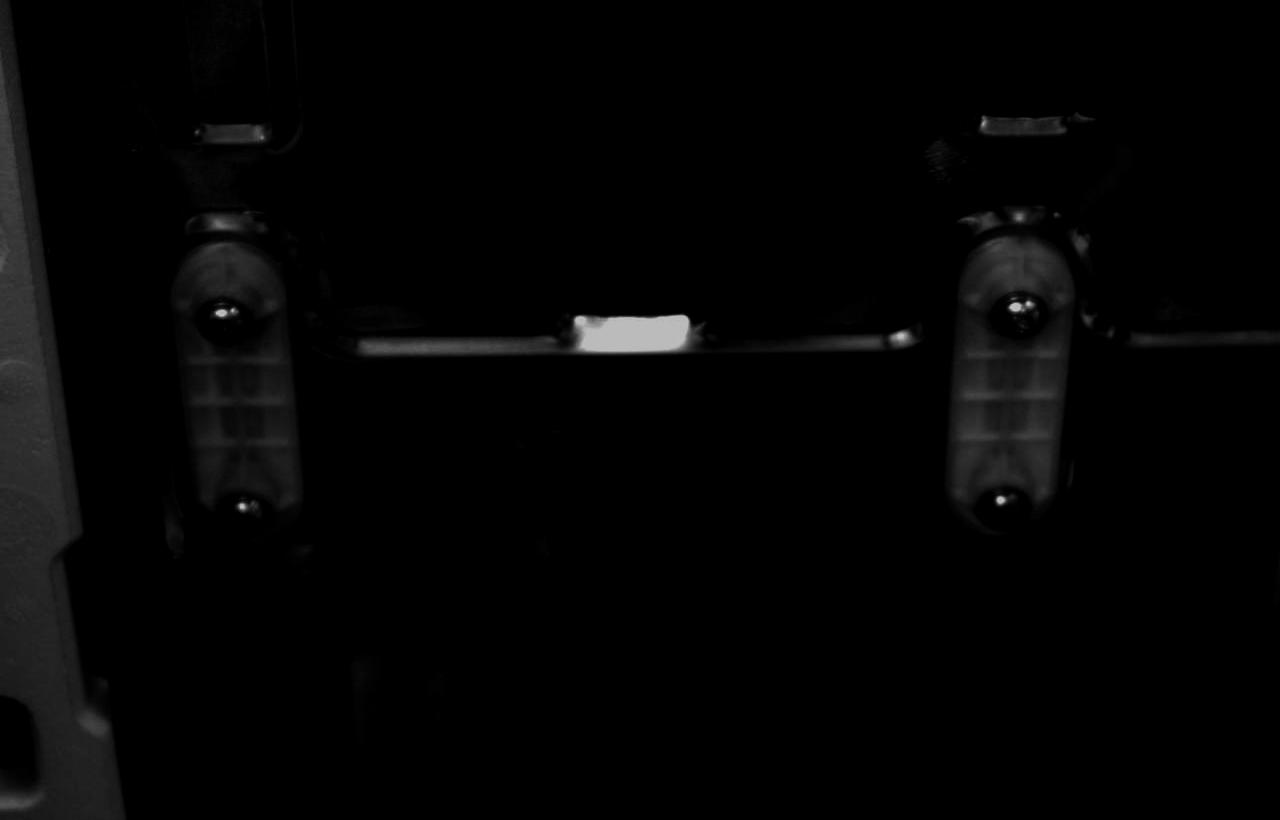vida-ok: (181, 277, 267, 355), (978, 272, 1065, 345), (213, 489, 291, 553), (967, 476, 1042, 535)
